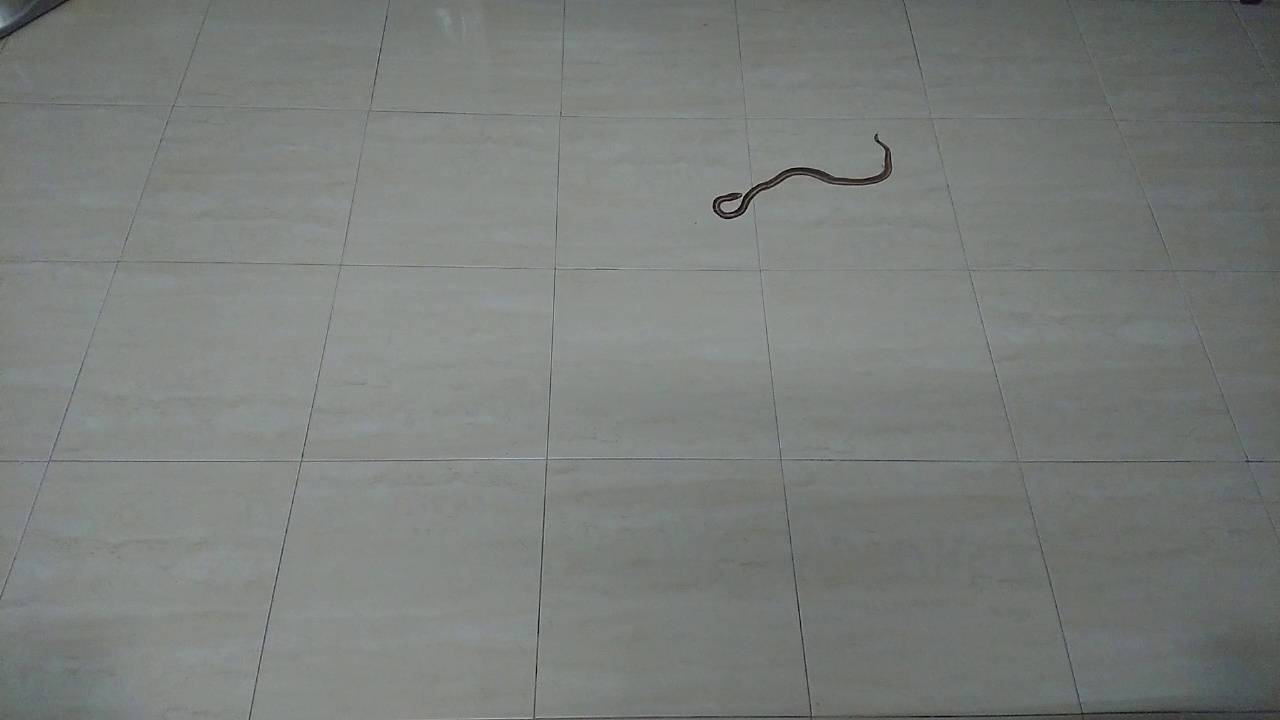snake: (696, 122, 907, 228)
